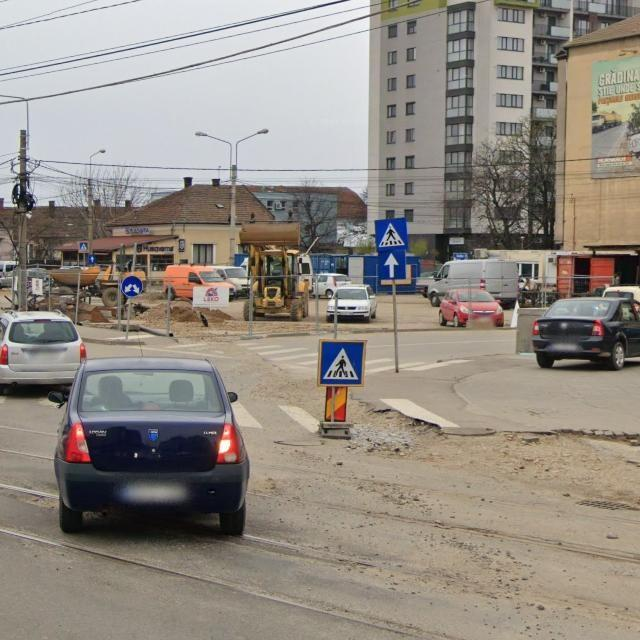info_crosswalk: (318, 340, 366, 386), (375, 219, 409, 250), (77, 241, 90, 253)
